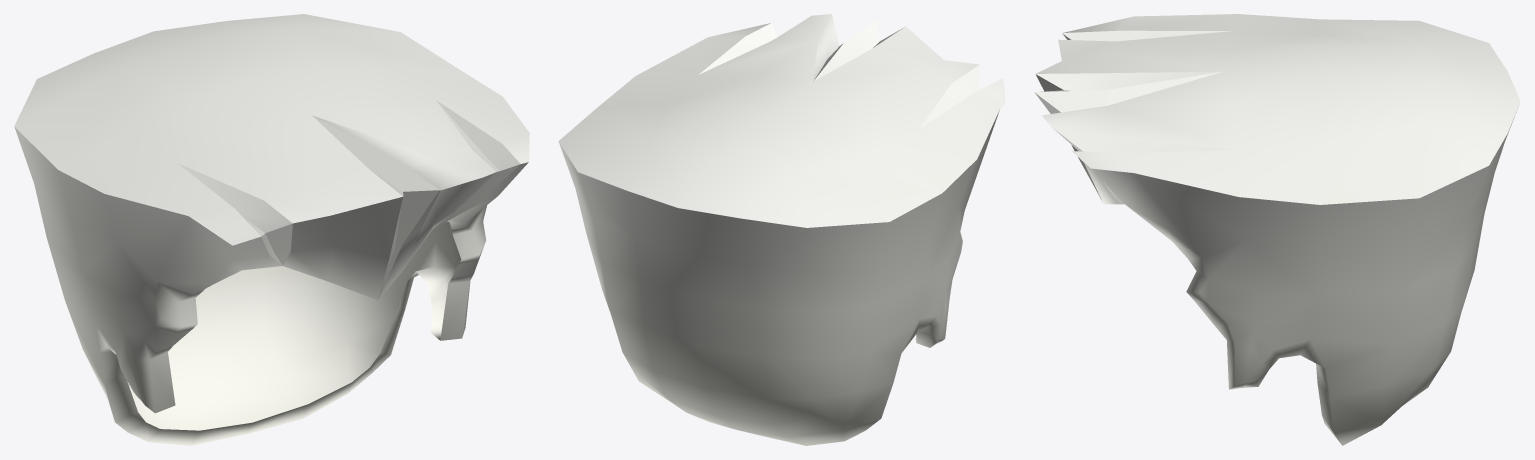
Rendered from Hair_White_4.fbx.
The picture shows the model from 3 angles, left to right: view 1: azimuth 30°, elevation 25°; view 2: azimuth 150°, elevation 25°; view 3: azimuth 270°, elevation 25°; orthographic projection. The views are drawn at different scales.
Visible parts, largest first — view 1: Hair_White_4; view 2: Hair_White_4; view 3: Hair_White_4.
Part boxes in pixels (<box>): Hair_White_4: <box>14,14,529,445</box>; Hair_White_4: <box>558,14,1005,445</box>; Hair_White_4: <box>1034,14,1520,445</box>.
Bounding box in the file's own units: 62.29 × 53.97 × 68.97.
